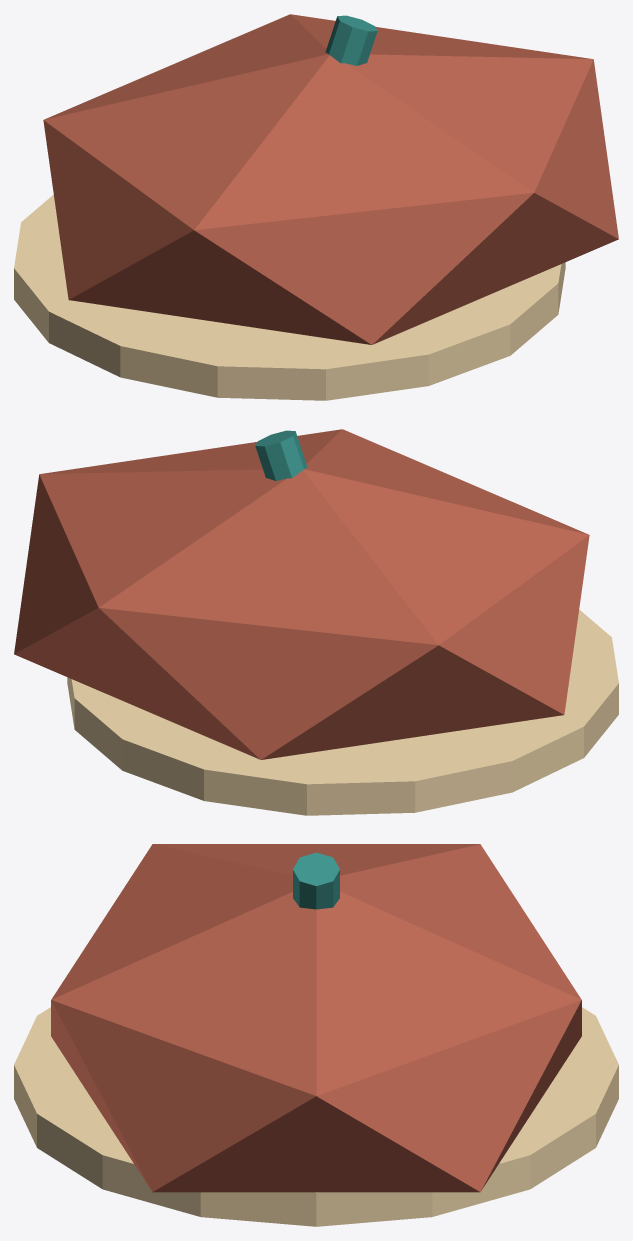
File: outfit_beret.glb
3 renders of one model, top to bottom at view 1: azimuth 30°, elevation 25°; view 2: azimuth 150°, elevation 25°; view 3: azimuth 270°, elevation 25°, orthographic. The views are drawn at different scales.
Parts seen in each view (by area): view 1: cap, band, stem; view 2: cap, band, stem; view 3: cap, band, stem.
Boxes of the visible parts, x1=… form: cap: x1=43, y1=14, x2=618, y2=344; band: x1=14, y1=194, x2=565, y2=400; stem: x1=325, y1=15, x2=377, y2=65; cap: x1=14, y1=429, x2=589, y2=759; band: x1=67, y1=609, x2=618, y2=815; stem: x1=255, y1=430, x2=307, y2=480; cap: x1=51, y1=844, x2=581, y2=1192; band: x1=14, y1=1007, x2=618, y2=1226; stem: x1=293, y1=852, x2=339, y2=909.
Bounding box in the file's own units: 0.7238 × 0.3588 × 0.64.
